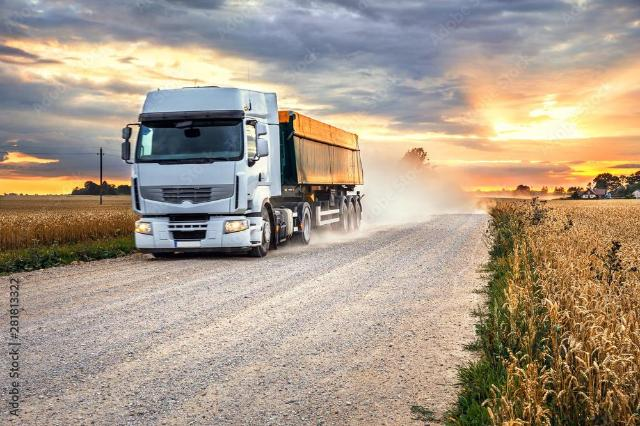truck: (103, 84, 378, 258)
